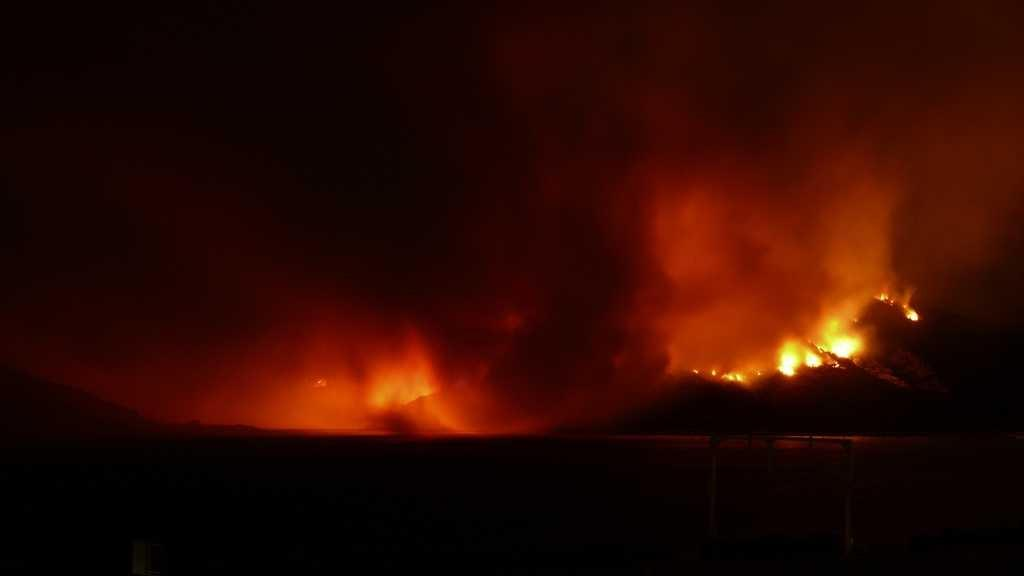fire: (730, 326, 878, 394), (350, 366, 468, 442)
smoke: (666, 94, 920, 212)
